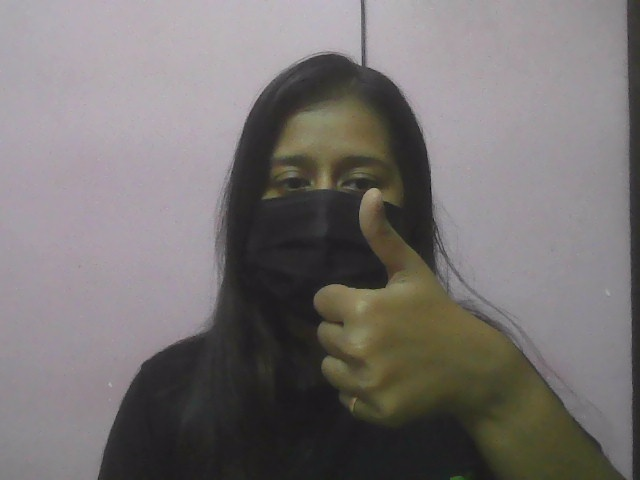Good: (293, 180, 513, 434)
